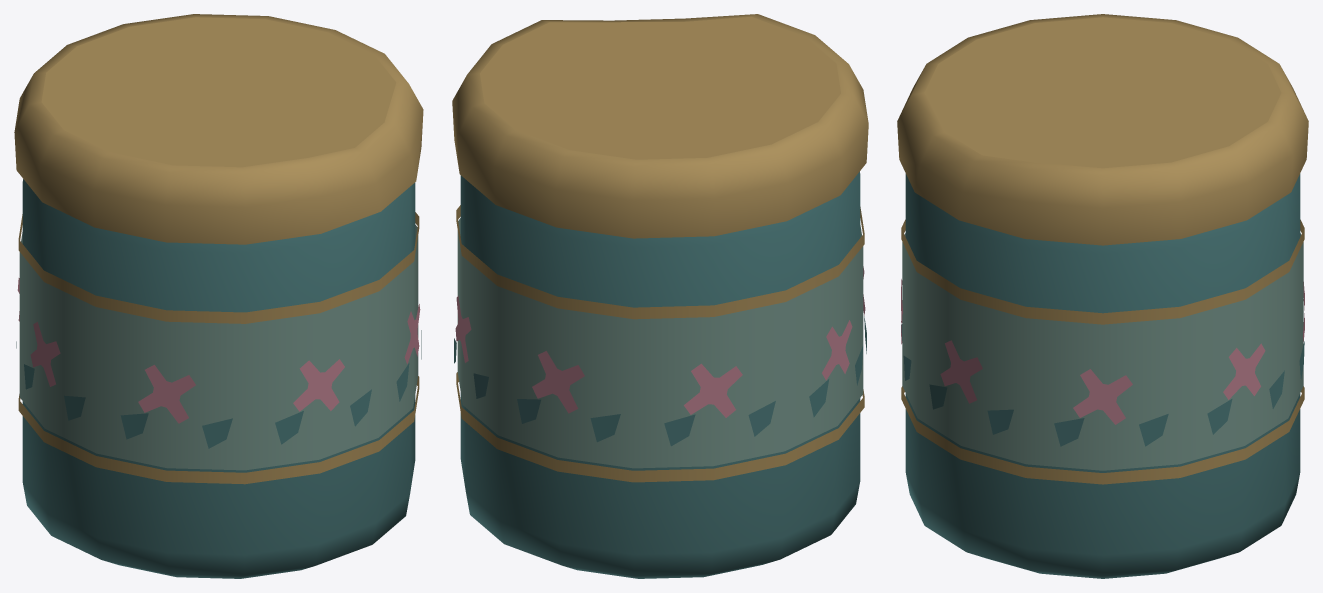
Rendered from tea_tin.glb.
3 views of the same model, side by side, from view 1: azimuth 30°, elevation 25°; view 2: azimuth 150°, elevation 25°; view 3: azimuth 270°, elevation 25° (orthographic). The views are drawn at different scales.
Visible parts, largest first — view 1: tea_tin; view 2: tea_tin; view 3: tea_tin.
Part boxes in pixels (x1=…): tea_tin: x1=14, y1=14, x2=423, y2=578; tea_tin: x1=452, y1=14, x2=868, y2=578; tea_tin: x1=897, y1=14, x2=1308, y2=578.
Size of the model in its own units: 0.196 by 0.219 by 0.196.
